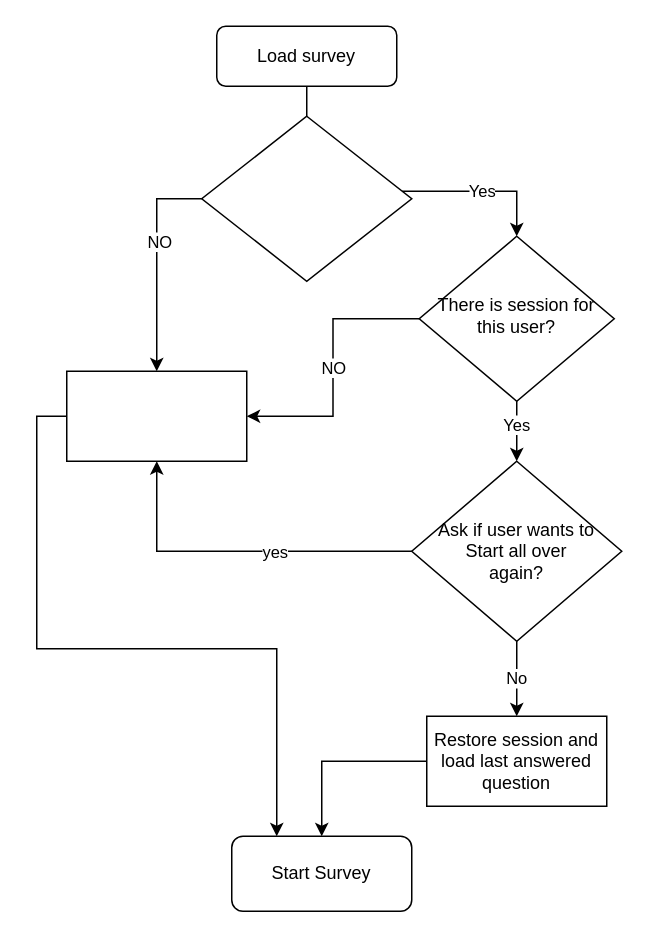
The diagram is 648 pixels wide and 938 high, and some of its shapes have lost their labels. Here are the shapes that lost their labels. From the top down, the centre of each, then its label:
point (306, 198): Is a question-url specified?
point (156, 415): Load first question
